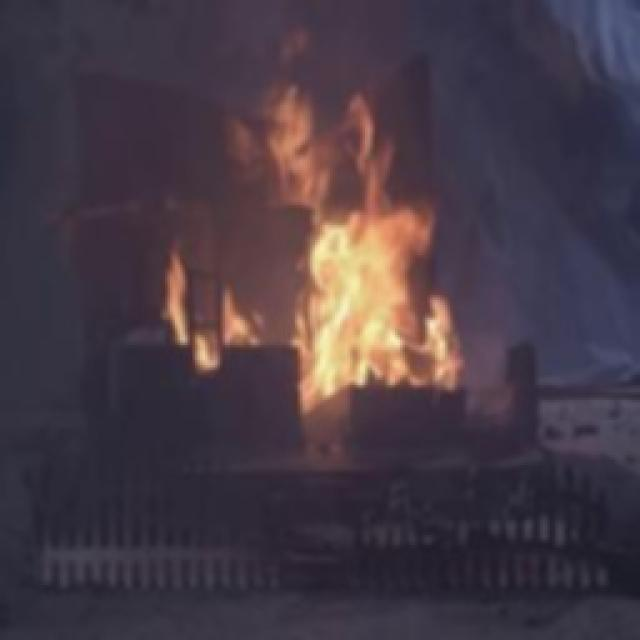fire: (171, 86, 481, 409)
